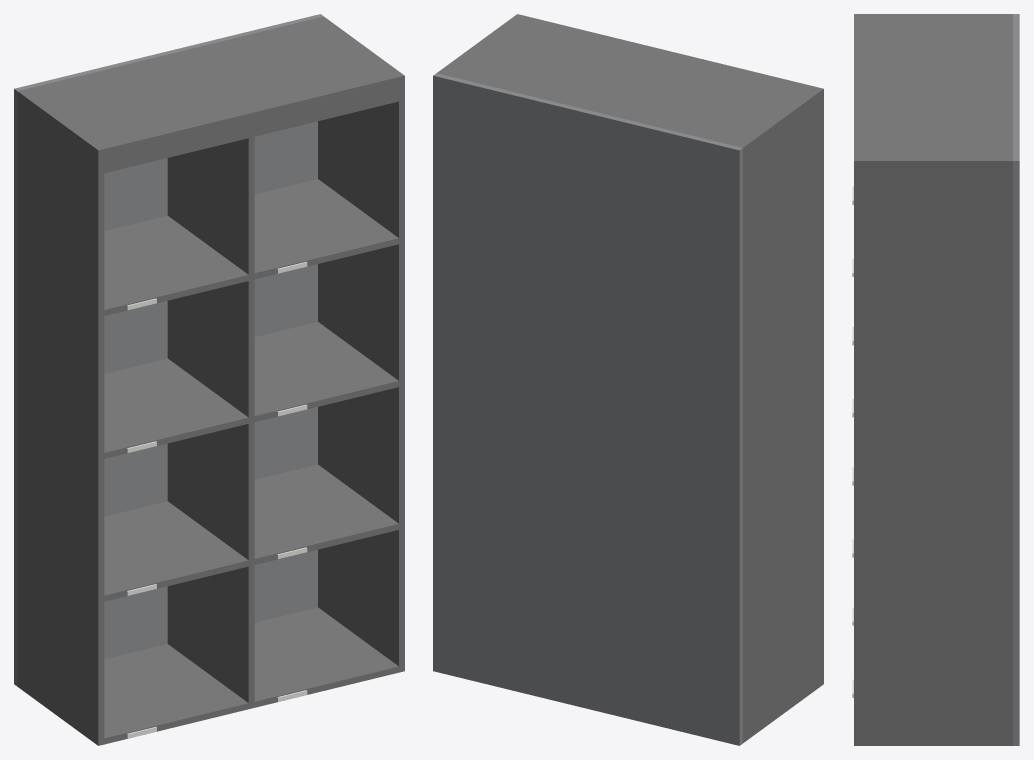
File: SM_Rack_Almacen.fbx
3 renders of one model, left to right at view 1: azimuth 30°, elevation 25°; view 2: azimuth 150°, elevation 25°; view 3: azimuth 270°, elevation 25°, orthographic.
Visible parts, largest first — view 1: SM_Rack_Almacen; view 2: SM_Rack_Almacen; view 3: SM_Rack_Almacen.
Boxes of the visible parts, bbox=[...] form: SM_Rack_Almacen: bbox=[14, 14, 404, 745]; SM_Rack_Almacen: bbox=[433, 14, 823, 745]; SM_Rack_Almacen: bbox=[852, 14, 1019, 745].
Size of the model in its own units: 1.05 by 1.95 by 0.505.
